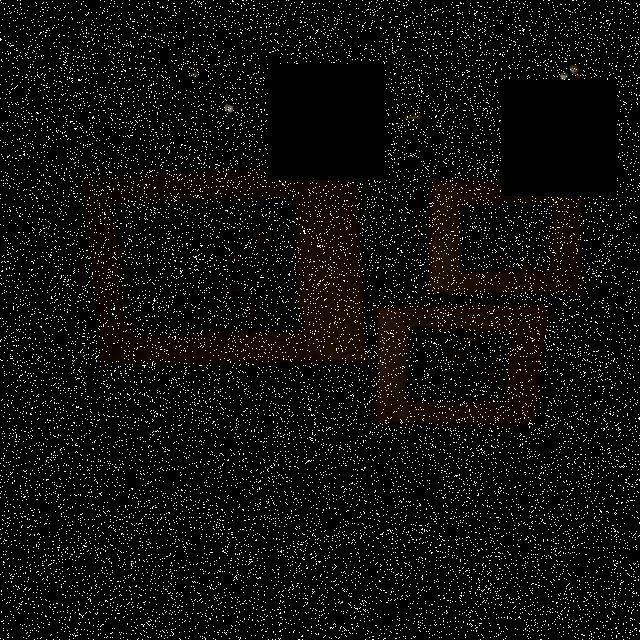QR_CODE: (96, 178, 319, 348), (390, 312, 530, 418), (444, 186, 578, 286)
